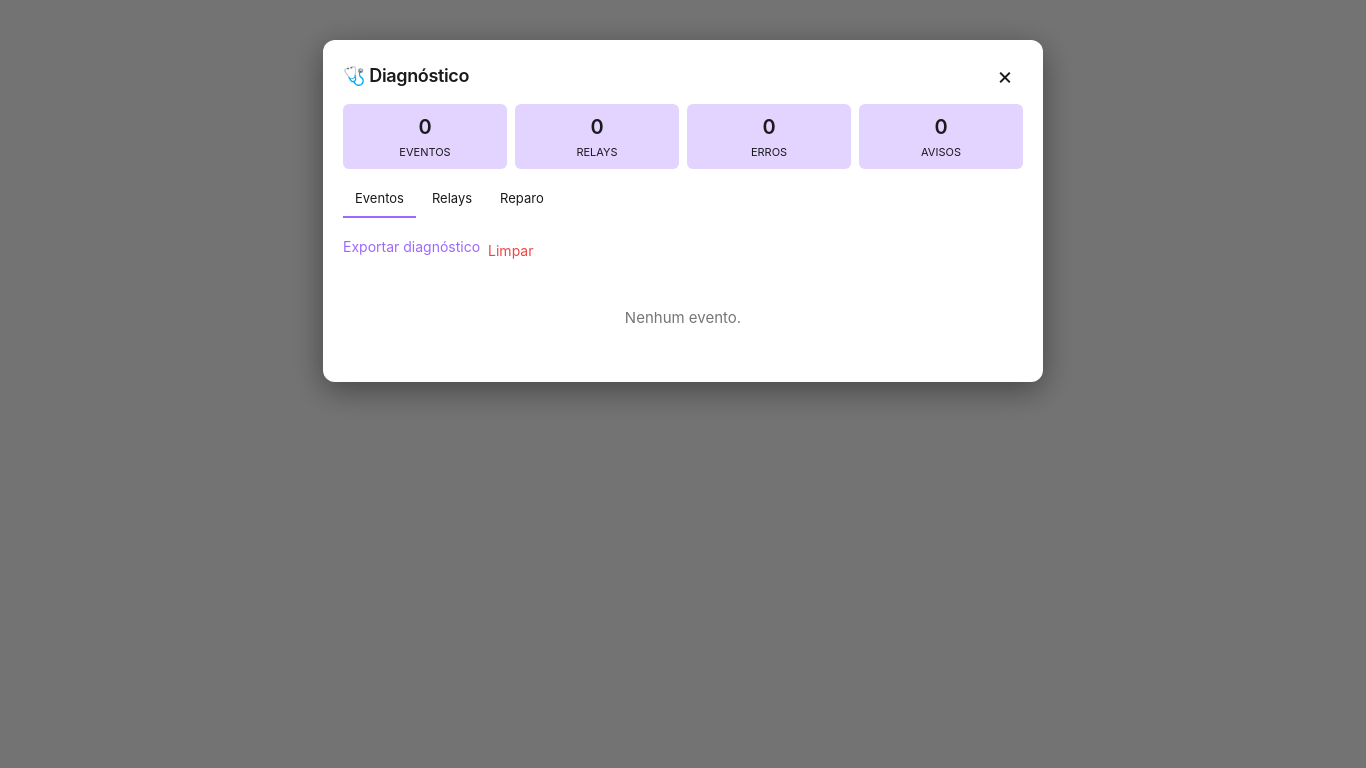
Test: DiagnosticsPanel › switches to repair tab
The image size is (1366, 768).
Click the button "Reparo": (522, 199) [488,180,556,218]
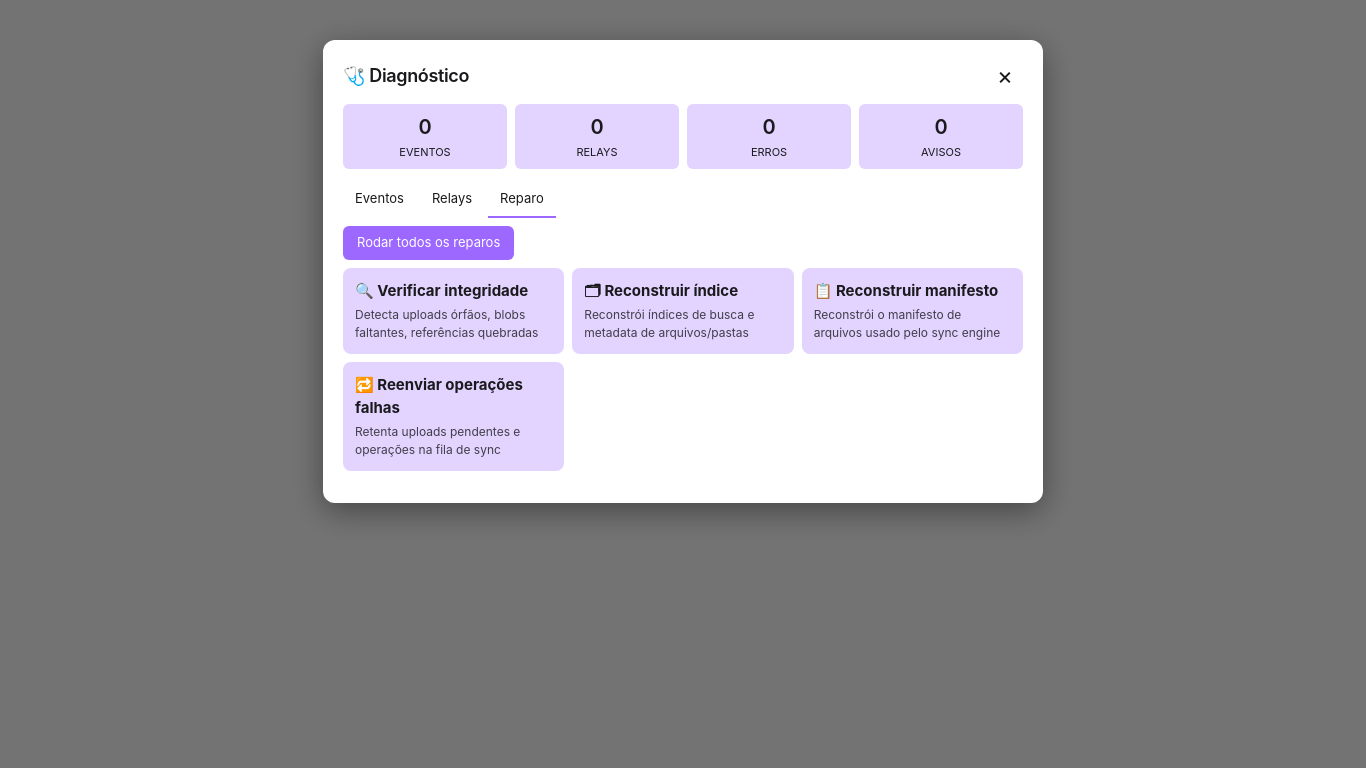
Check: the text "Verificar integridade" is shown, box [355,280,528,300]
